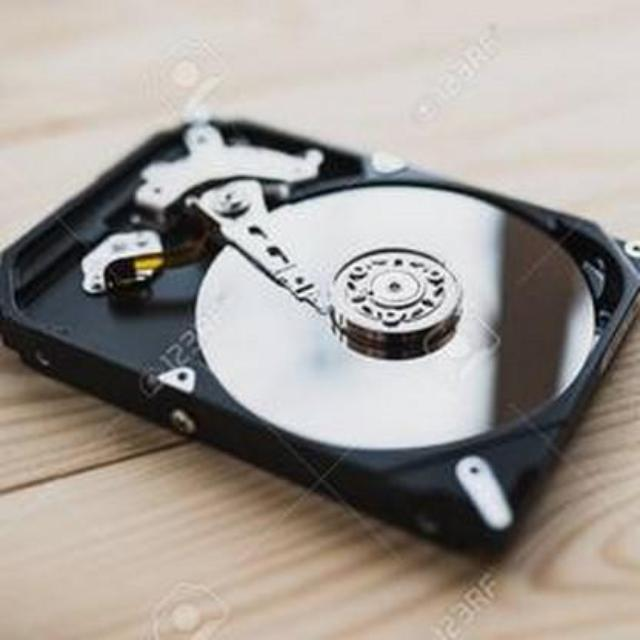DISK: (0, 92, 638, 570)
